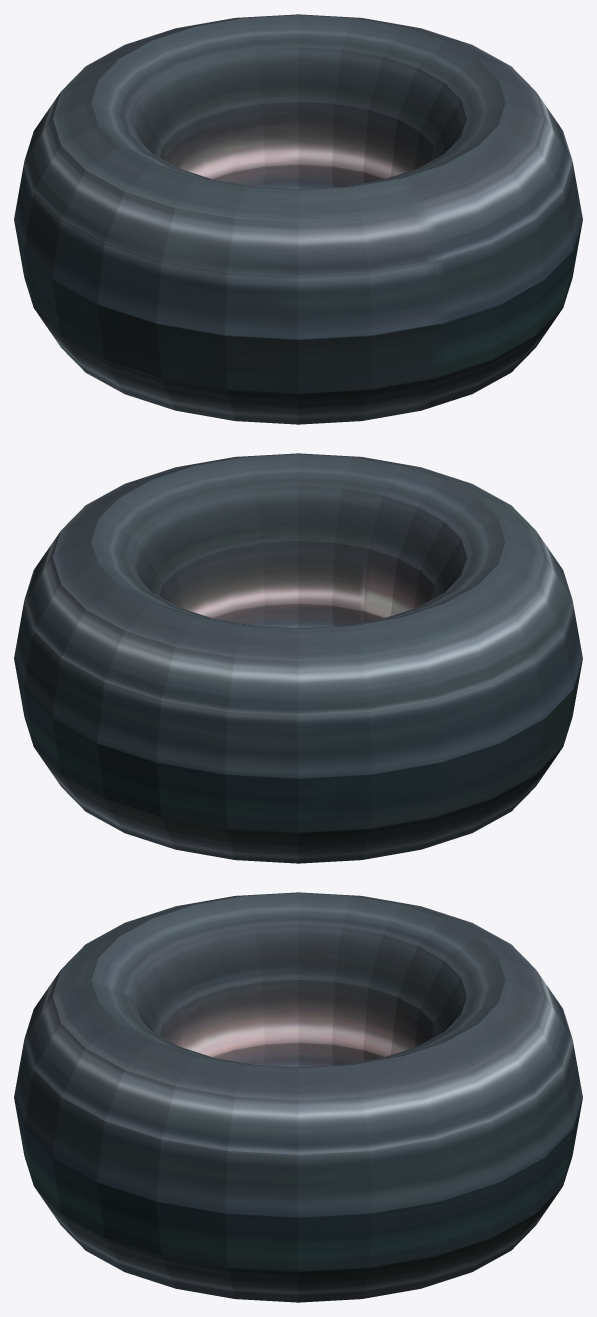
Rendered from FlasherT1.fbx.
The picture shows the model from 3 angles, top to bottom: view 1: azimuth 30°, elevation 25°; view 2: azimuth 150°, elevation 25°; view 3: azimuth 270°, elevation 25°; orthographic projection.
Parts seen in each view (by area): view 1: FlasherT1; view 2: FlasherT1; view 3: FlasherT1.
Boxes of the visible parts, box(x1,y1,x2,y2) form: FlasherT1: box(14, 14, 582, 424); FlasherT1: box(14, 453, 582, 863); FlasherT1: box(14, 892, 582, 1302).
Size of the model in its own units: 1.19 by 0.5397 by 1.19.
Materials: 1 (1 with a texture image).
